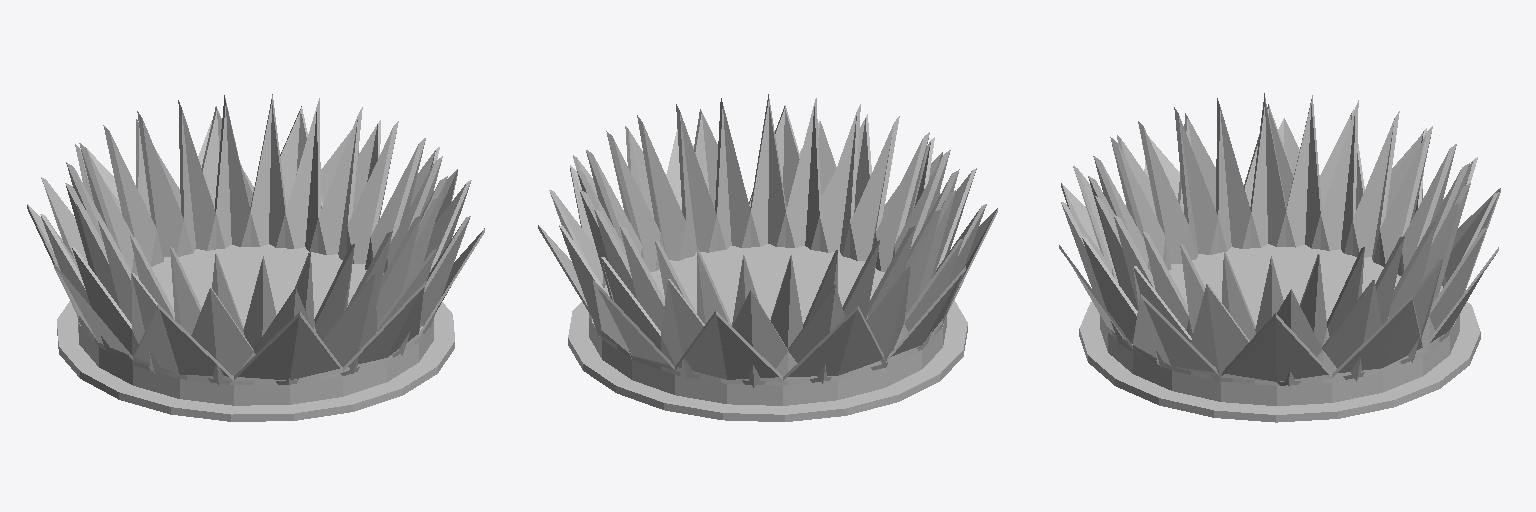
The model's file is portal_abrir_000047.obj.
The picture shows the model from 3 angles: view 1: azimuth 30°, elevation 25°; view 2: azimuth 150°, elevation 25°; view 3: azimuth 270°, elevation 25°; orthographic projection.
Parts seen in each view (by area): view 1: Cylinder.001, pCylinder1, Cylinder; view 2: Cylinder.001, pCylinder1, Cylinder; view 3: Cylinder.001, pCylinder1, Cylinder.
Part boxes in pixels (x1,y1,x2,y2): Cylinder.001: (65,94,447,349); pCylinder1: (27,121,484,421); Cylinder: (40,106,471,385); Cylinder.001: (577,94,959,348); pCylinder1: (538,121,997,421); Cylinder: (549,105,986,387); Cylinder.001: (1088,93,1470,346); pCylinder1: (1059,118,1500,422); Cylinder: (1061,104,1498,386).
Size of the model in its own units: 7.34 by 2.87 by 7.03.